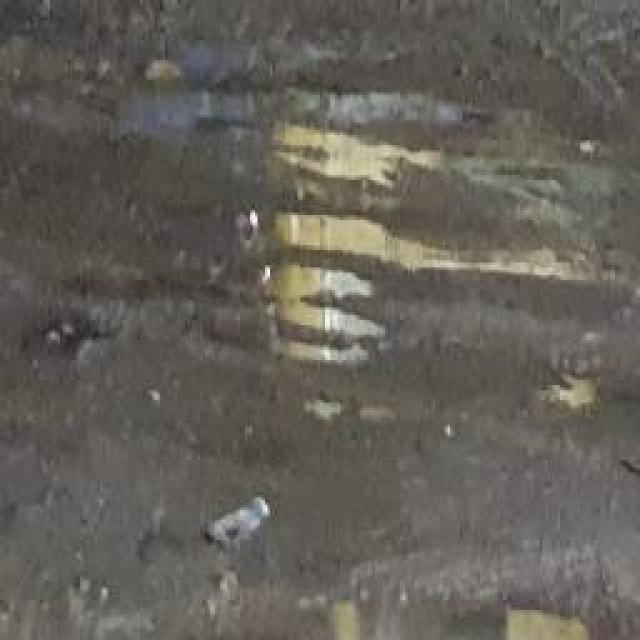stagnation: (283, 200, 593, 271)
